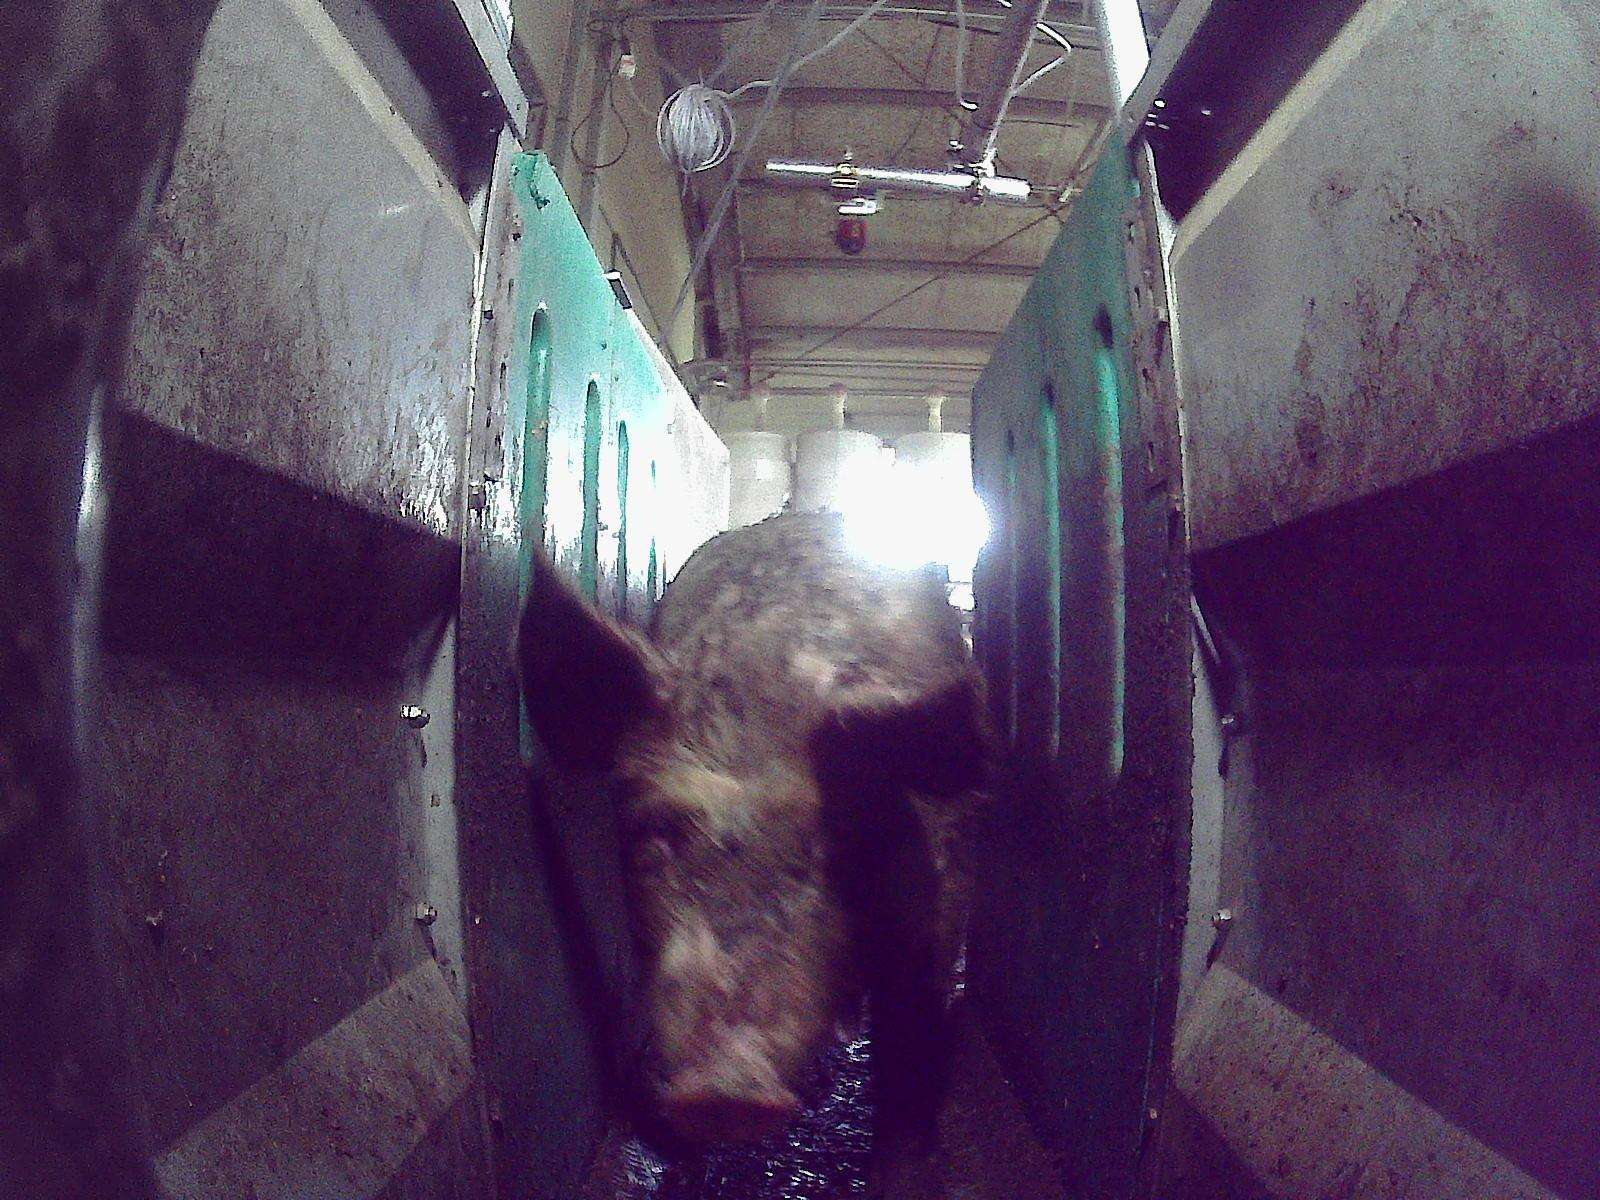Face: (607, 714, 859, 1143)
